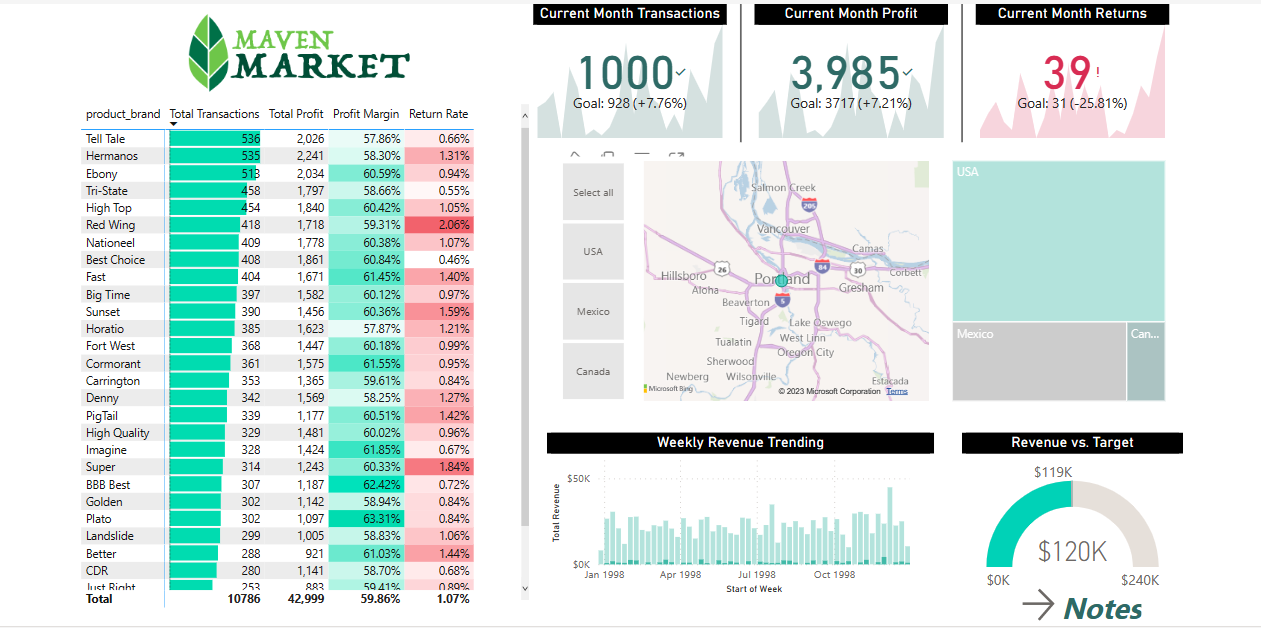

The dashboard page shown, as its layout file describes it:
{"tool":"powerbi","page":{"name":"Topline Performance","canvas":[1280,720],"ordinal":0},"visuals":[{"type":"image","box":[0,0,512,112],"z":0},{"type":"pivotTable","fields":{"Values":["Transaction_Data.Total Transactions","Transaction_Data.Total Profit","Transaction_Data.Profit Margin","Transaction_Data.Return Rate"],"Rows":["Products.product_brand"]},"box":[0,112,528,592],"z":1000},{"type":"tableEx","fields":{"Values":["Calendar.date.Variation.Date Hierarchy.Year"]},"box":[928,0,304,32],"z":2000},{"type":"kpi","title":"Current Month Transactions","fields":{"Indicator":["Transaction_Data.Total Transactions"],"TrendLine":["Calendar.Start of Month"],"Goal":["Transaction_Data.Last Month Transactions"]},"box":[528,0,224,160],"z":3000},{"type":"shape","box":[752,0,32,160],"z":4000},{"type":"shape","box":[1008,0,32,160],"z":5000},{"type":"kpi","title":"Current Month Returns","fields":{"TrendLine":["Calendar.Start of Month"],"Goal":["Transaction_Data.Last Month Returns"],"Indicator":["Return_Data.Total Returns"]},"box":[1040,0,224,160],"z":6000},{"type":"kpi","title":"Current Month Profit","fields":{"TrendLine":["Calendar.Start of Month"],"Goal":["Transaction_Data.Last Month Profit"],"Indicator":["Transaction_Data.Total Profit"]},"box":[784,0,224,160],"z":7000},{"type":"map","fields":{"Size":["Transaction_Data.Total Transactions"],"Category":["Stores.store_city"]},"box":[640,176,352,288],"z":8000},{"type":"slicer","fields":{"Values":["Stores.store_country"]},"box":[528,176,128,288],"z":9000},{"type":"columnChart","title":"Weekly Revenue Trending","fields":{"Y":["Transaction_Data.Total Revenue"],"Category":["Calendar.Start of Week"]},"box":[544,496,448,192],"z":10000},{"type":"treemap","fields":{"Group":["Stores.store_country","Stores.store_state","Stores.store_city"],"Values":["Transaction_Data.Total Transactions"]},"box":[1008,176,256,288],"z":11000},{"type":"gauge","title":"Revenue vs. Target","fields":{"Y":["Transaction_Data.Total Revenue"],"TargetValue":["Transaction_Data.Revenue Target"]},"box":[1024,496,256,192],"z":12000},{"type":"actionButton","title":"Notes","box":[1088,672,192,48],"z":13000}]}

Visuals, with their boxes on the page's 1280x720 design canvas (x1, y1, x2, y2). These are canvas units, not pixel positions in the 1261x628 screenshot, which may show the page scaled, cropped or inside an application window:
image: BBox(0, 0, 512, 112)
pivotTable - Transaction_Data.Total Transactions x Transaction_Data.Total Profit: BBox(0, 112, 528, 704)
tableEx - Calendar.date.Variation.Date Hierarchy.Year: BBox(928, 0, 1232, 32)
"Current Month Transactions" kpi: BBox(528, 0, 752, 160)
shape: BBox(752, 0, 784, 160)
shape: BBox(1008, 0, 1040, 160)
"Current Month Returns" kpi: BBox(1040, 0, 1264, 160)
"Current Month Profit" kpi: BBox(784, 0, 1008, 160)
map - Transaction_Data.Total Transactions x Stores.store_city: BBox(640, 176, 992, 464)
slicer - Stores.store_country: BBox(528, 176, 656, 464)
"Weekly Revenue Trending" columnChart: BBox(544, 496, 992, 688)
treemap - Stores.store_country x Stores.store_state: BBox(1008, 176, 1264, 464)
"Revenue vs. Target" gauge: BBox(1024, 496, 1280, 688)
"Notes" actionButton: BBox(1088, 672, 1280, 720)
